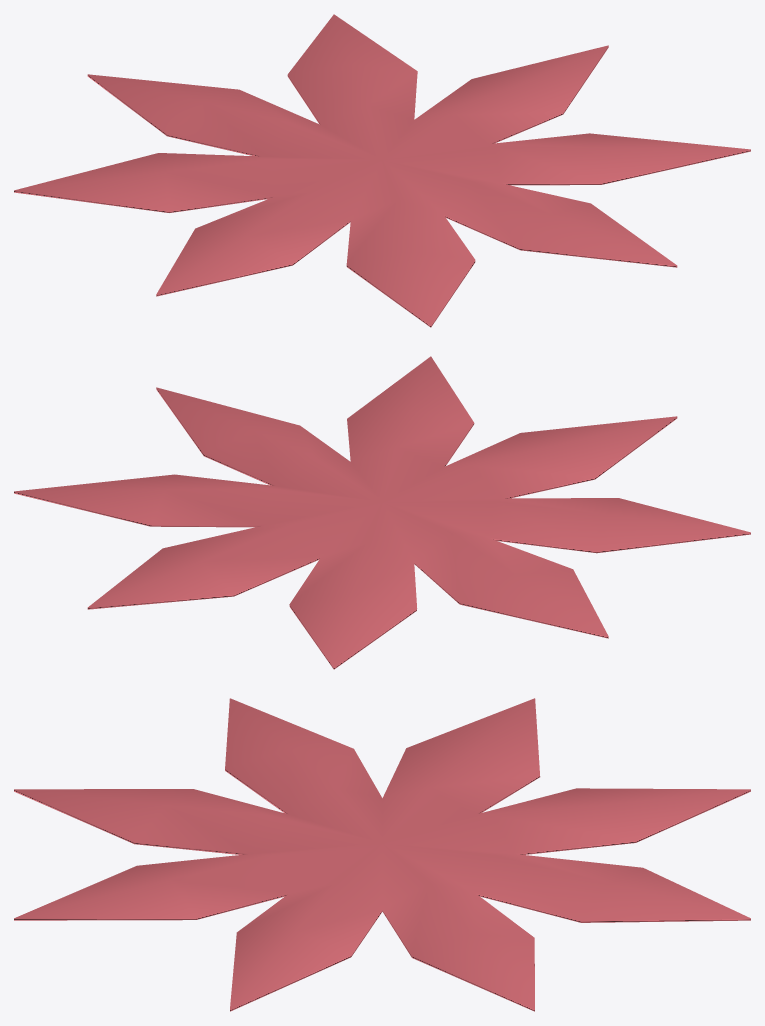
File: Character_Flower_BuzzSaw_Blade.fbx
3 renders of one model, top to bottom at view 1: azimuth 30°, elevation 25°; view 2: azimuth 150°, elevation 25°; view 3: azimuth 270°, elevation 25°, orthographic. The views are drawn at different scales.
Visible parts, largest first — view 1: Flower_BuzzSaw_SawZeroed; view 2: Flower_BuzzSaw_SawZeroed; view 3: Flower_BuzzSaw_SawZeroed.
Boxes of the visible parts, x1=… form: Flower_BuzzSaw_SawZeroed: x1=14, y1=14, x2=750, y2=327; Flower_BuzzSaw_SawZeroed: x1=14, y1=356, x2=750, y2=669; Flower_BuzzSaw_SawZeroed: x1=14, y1=698, x2=750, y2=1011.
Bounding box in the file's own units: 149 × 8.64 × 149.
Materials: 1 (1 with a texture image).
